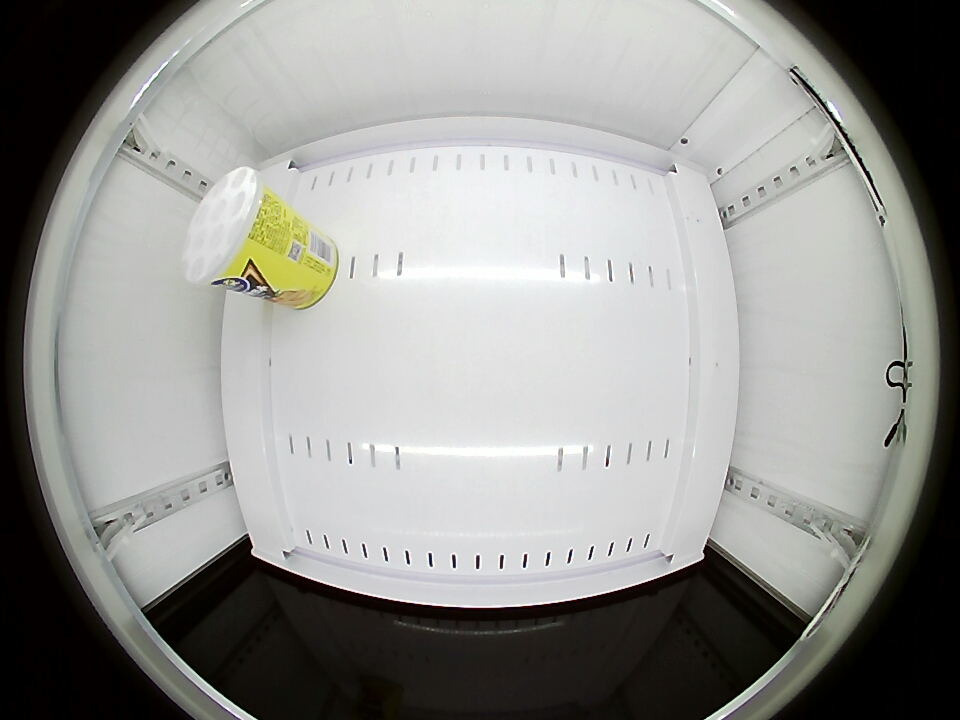kebike: (182, 166, 279, 289)
